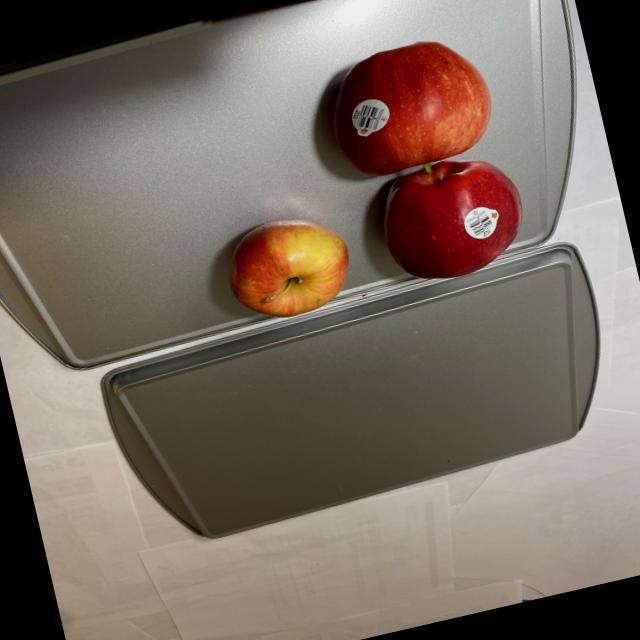apple: (182, 26, 536, 329)
